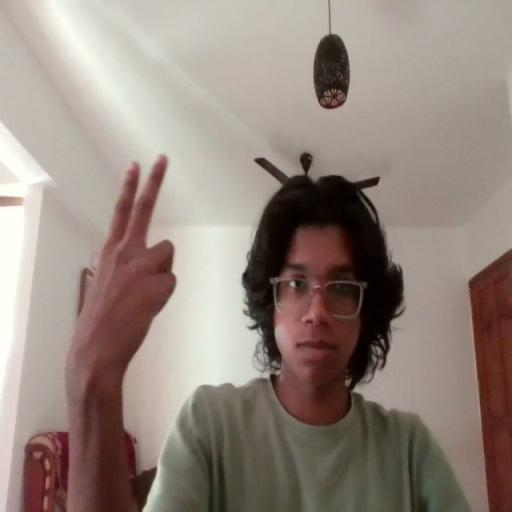scissor: (75, 150, 178, 376)
